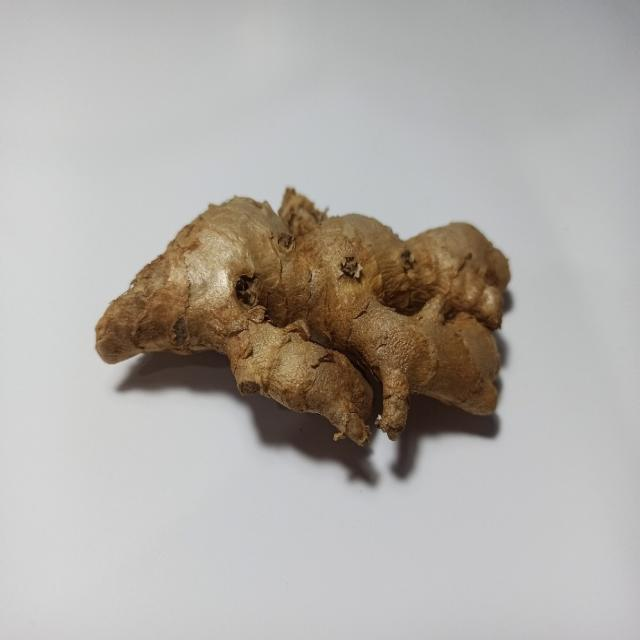ginger: (98, 191, 511, 446)
